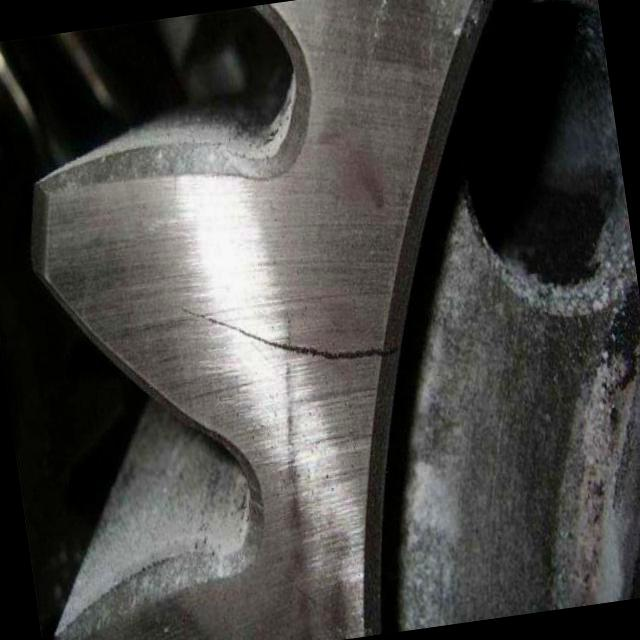defect: (175, 303, 404, 365)
